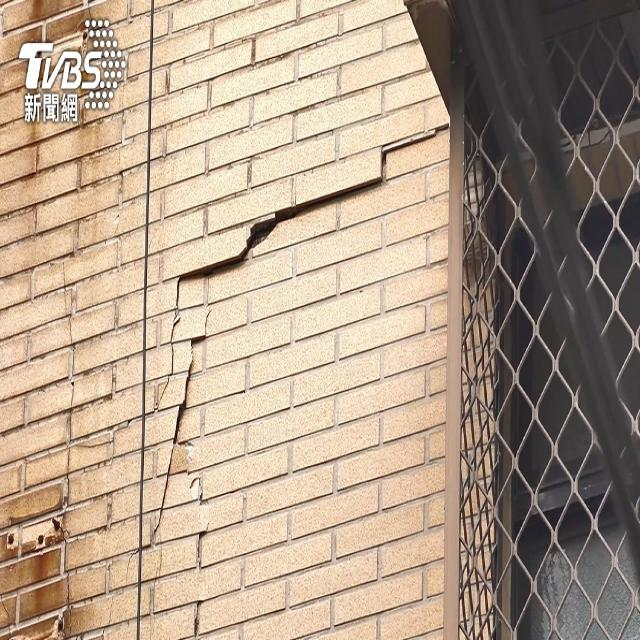Crack: (126, 124, 450, 580), (62, 260, 71, 640), (71, 440, 114, 450), (194, 604, 199, 638)
